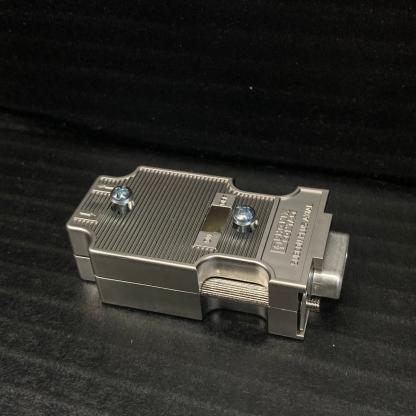SP0000010: (37, 132, 384, 370)
